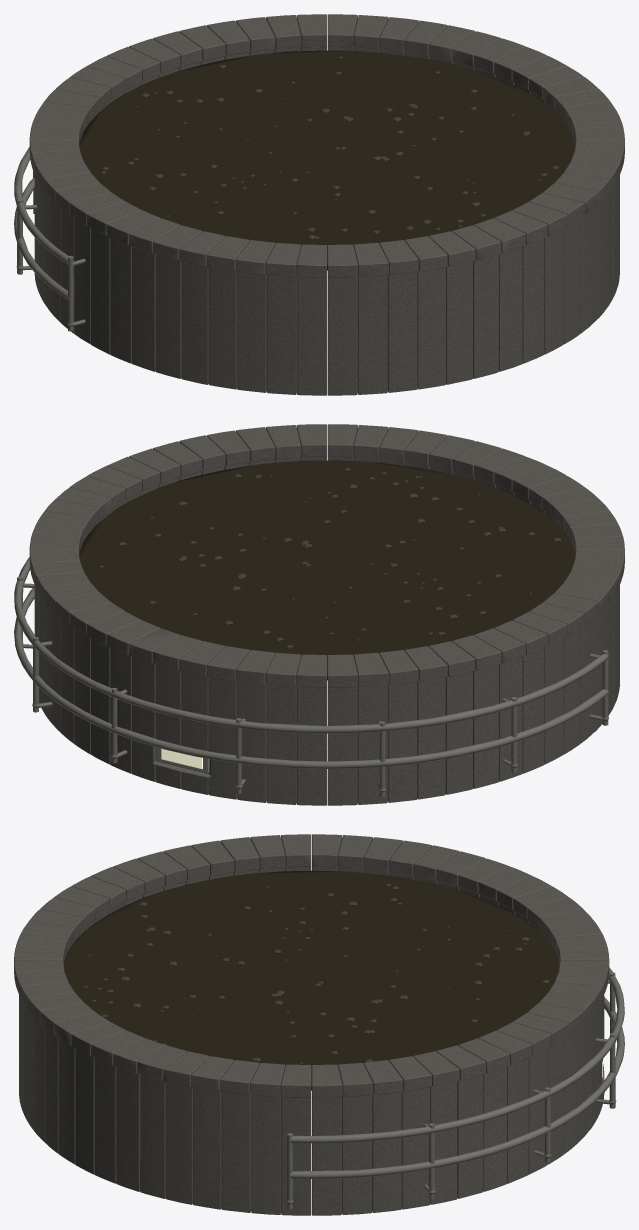
3 views of the same model, one above another, from view 1: azimuth 30°, elevation 25°; view 2: azimuth 150°, elevation 25°; view 3: azimuth 270°, elevation 25° (orthographic).
Visible parts, largest first — view 1: E-A; view 2: E-A; view 3: E-A.
Part boxes in pixels (x1=…): E-A: x1=14, y1=14, x2=624, y2=395; E-A: x1=14, y1=424, x2=624, y2=805; E-A: x1=14, y1=834, x2=624, y2=1215.
Bounding box in the file's own units: 4.49 × 1.05 × 4.38.
13 materials, 7 textured.
